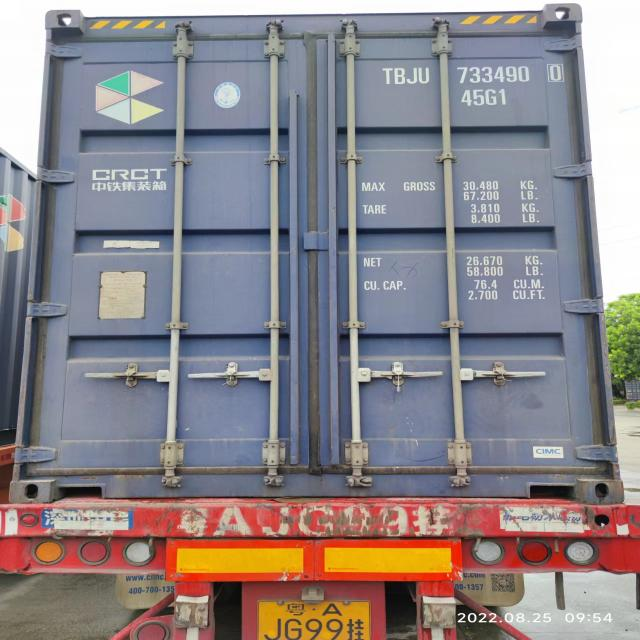seal: (388, 355, 411, 403)
